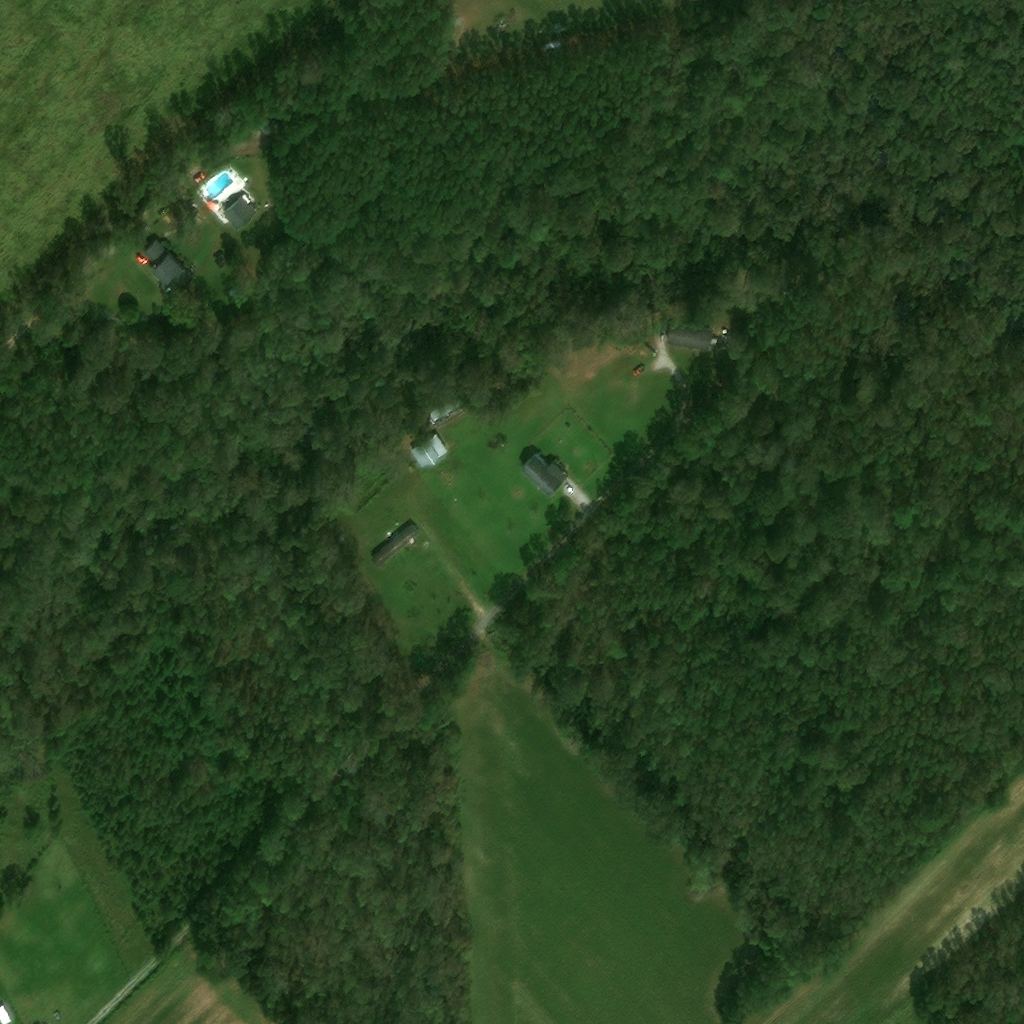no_damage: (142, 240, 193, 296), (519, 451, 568, 497), (370, 527, 417, 567), (662, 321, 711, 352), (408, 435, 447, 469), (223, 197, 258, 231), (429, 398, 459, 422), (213, 253, 232, 270)
unclassified: (130, 226, 150, 246)
